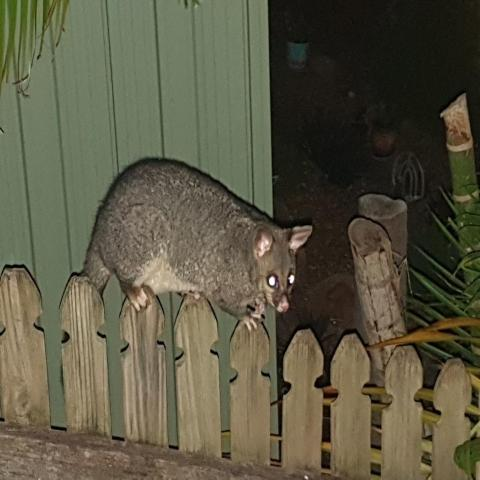small_animal: (77, 154, 314, 334)
